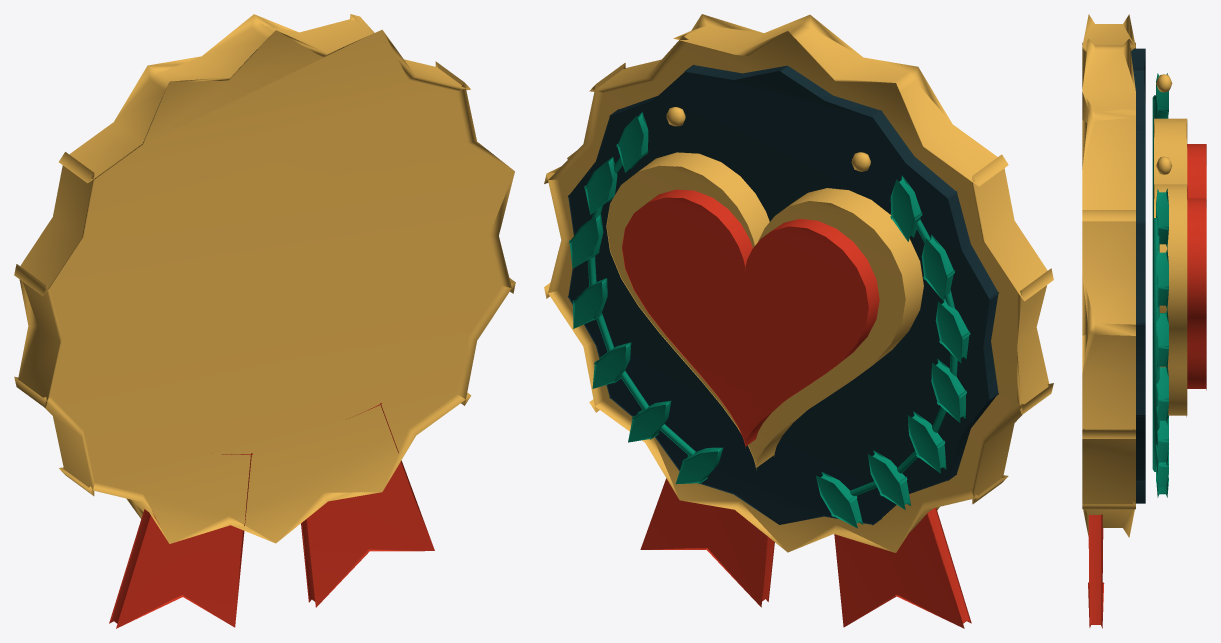
Rendered from chess.insignia.heart-queen.glb.
The picture shows the model from 3 angles, left to right: view 1: azimuth 30°, elevation 25°; view 2: azimuth 150°, elevation 25°; view 3: azimuth 270°, elevation 25°; orthographic projection. The views are drawn at different scales.
Visible parts, largest first — view 1: cast_medal_rim, ribbon_tail.001, ribbon_tail; view 2: recessed_enamel, cast_medal_rim, faceted_symbol_enamel, raised_symbol_setting, ribbon_tail.001, ribbon_tail, laurel_leaf.008, laurel_leaf.007, laurel_leaf.009, laurel_leaf.010, laurel_stem, laurel_leaf.012 (+10 smaller); view 3: cast_medal_rim, raised_symbol_setting, faceted_symbol_enamel, recessed_enamel, ribbon_tail, laurel_stem, laurel_leaf.005, laurel_leaf.004, laurel_leaf.006, laurel_leaf.003, laurel_leaf.002, laurel_leaf.013 (+4 smaller).
Part boxes in pixels (<box>): cast_medal_rim: <box>14,14,515,543</box>; ribbon_tail.001: <box>109,453,252,628</box>; ribbon_tail: <box>301,403,434,607</box>; recessed_enamel: <box>567,65,998,525</box>; cast_medal_rim: <box>544,14,1053,552</box>; faceted_symbol_enamel: <box>622,189,879,448</box>; raised_symbol_setting: <box>606,152,923,470</box>; ribbon_tail.001: <box>834,508,971,628</box>; ribbon_tail: <box>640,478,774,607</box>; laurel_leaf.008: <box>868,450,910,509</box>; laurel_leaf.007: <box>816,471,863,528</box>; laurel_leaf.009: <box>908,411,946,473</box>; laurel_leaf.010: <box>931,358,966,422</box>; laurel_stem: <box>587,157,695,455</box>; laurel_leaf.012: <box>921,234,954,300</box>; cast_medal_rim: <box>1082,14,1135,537</box>; raised_symbol_setting: <box>1154,118,1187,416</box>; faceted_symbol_enamel: <box>1187,144,1206,390</box>; recessed_enamel: <box>1131,48,1145,503</box>; ribbon_tail: <box>1088,514,1104,628</box>; laurel_stem: <box>1152,218,1159,471</box>; laurel_leaf.005: <box>1156,249,1168,309</box>; laurel_leaf.004: <box>1156,310,1168,370</box>; laurel_leaf.006: <box>1156,188,1168,248</box>; laurel_leaf.003: <box>1156,366,1168,424</box>; laurel_leaf.002: <box>1156,415,1168,466</box>; laurel_leaf.013: <box>1156,73,1168,118</box>.
Size of the model in its own units: 0.2275 by 0.2689 by 0.0557.
